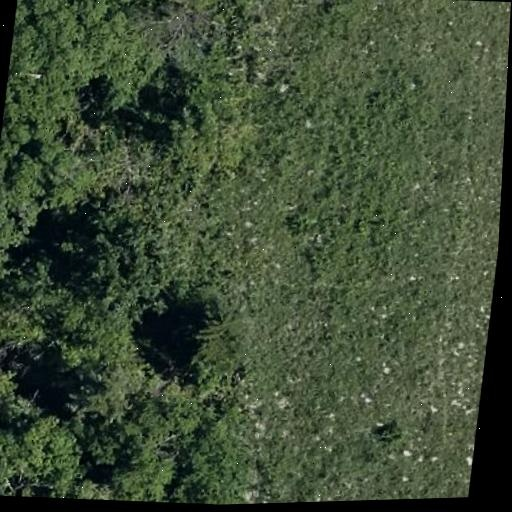tree-top: (0, 275, 111, 371), (151, 72, 251, 166), (0, 402, 90, 500), (0, 69, 91, 165), (79, 218, 169, 306), (178, 420, 266, 501), (4, 143, 100, 212), (178, 297, 259, 378), (91, 406, 170, 489), (31, 0, 115, 56), (0, 363, 30, 411)
